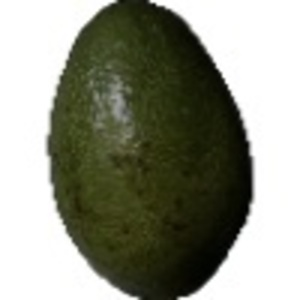abacate: (42, 1, 253, 297)
